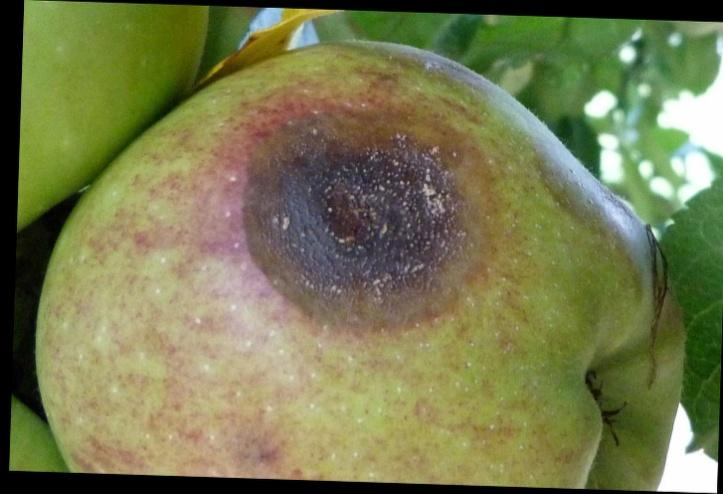rotten apple: (32, 36, 693, 481)
